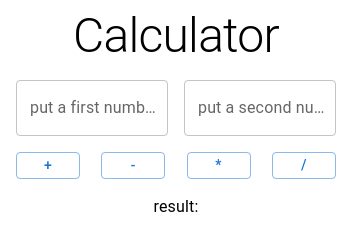
Test: calculates the sum of two numbers
Type "5" into the field labelled "put a first number" at (92, 108), box [16,80,168,136]
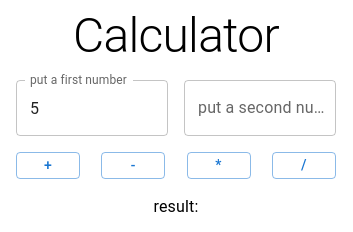
Type "10" into the field labelled "put a second number" at (260, 108), box [184,80,336,136]
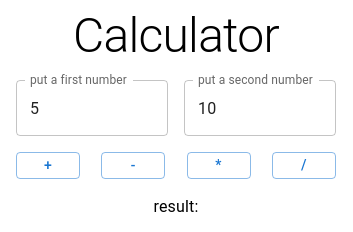
Click the button "+" at (48, 165), box [16,152,80,178]
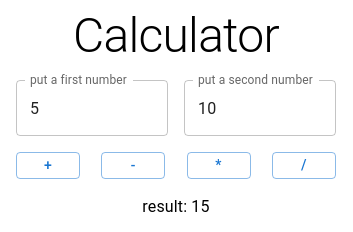
Now the text "result: 15" is shown, box [142,196,210,216]
